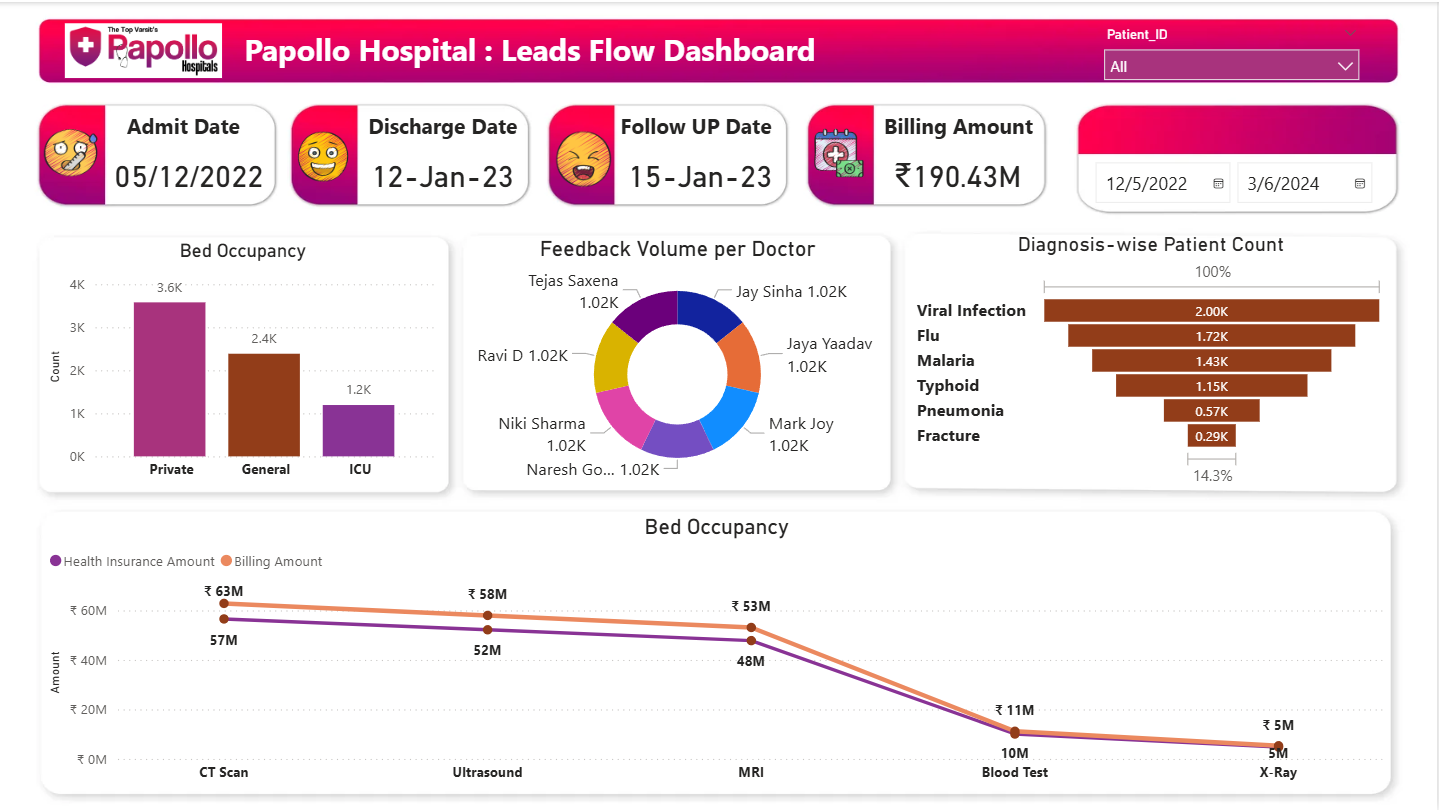

The page's visual inventory and layout, read from the dashboard file:
{"tool":"powerbi","page":{"name":"Dashboard_Page","canvas":[1280,720],"ordinal":0},"visuals":[{"type":"image","box":[3.7,18.4,249.1,49.1],"z":0},{"type":"textbox","box":[212.3,18.4,516.6,47.9],"z":1000},{"type":"slicer","fields":{"Values":["Sheet1.Patient_ID"]},"box":[973,17.2,247.9,52.8],"z":2000},{"type":"card","fields":{"Values":["Min(Sheet1.Admit_Date)"]},"box":[93.3,128.8,149.7,50.3],"z":3000},{"type":"textbox","box":[108,92,120.2,41.7],"z":4000},{"type":"card","fields":{"Values":["Min(Sheet1.Discharge_Date)"]},"box":[319,128.8,149.7,50.3],"z":5000},{"type":"textbox","box":[319,92,149.7,41.7],"z":6000},{"type":"textbox","box":[547.2,92,150.9,41.7],"z":7000},{"type":"card","fields":{"Values":["Min(Sheet1.Followup Date)"]},"box":[548.5,128.8,149.7,50.3],"z":8000},{"type":"image","box":[39.3,104.3,47.9,58.9],"z":9000},{"type":"image","box":[265,112.9,45.4,50.3],"z":10000},{"type":"image","box":[490.8,114.1,57.7,50.3],"z":11000},{"type":"image","box":[723.9,112.9,46.6,44.2],"z":12000},{"type":"card","fields":{"Values":["Sum(Sheet1.Billing Amount)"]},"box":[777.9,128.8,149.7,50.3],"z":13000},{"type":"textbox","box":[777.9,92,150.9,41.7],"z":14000},{"type":"slicer","fields":{"Values":["Sheet1.Admit_Date"]},"box":[963.2,132.5,274.8,52.8],"z":15000},{"type":"columnChart","title":"Bed Occupency","fields":{"Category":["Sheet1.Bed_Occupancy"],"Y":["CountNonNull(Sheet1.Bed_Occupancy)"]},"box":[39.3,211,354.6,223.3],"z":16000},{"type":"donutChart","title":"Feedback Volume Per Doctor","fields":{"Category":["Sheet1.Doctor"],"Y":["CountNonNull(Sheet1.Doctor)"]},"box":[416,208.6,374.2,225.8],"z":17000},{"type":"funnel","title":" Diagnosis-Wise Patient Count","fields":{"Category":["Sheet1.Diagnosis"],"Y":["CountNonNull(Sheet1.Diagnosis)"]},"box":[811,204.9,427,230.7],"z":19000},{"type":"lineChart","title":"Bed Occupancy","fields":{"Category":["Sheet1.Test"],"Y":["Sum(Sheet1.Health Insurance Amount)","Sum(Sheet1.Billing Amount)"]},"box":[39.3,456.4,1198.8,247.9],"z":19001}]}

Visuals, with their boxes in screenshot pixels (x1, y1, x2, y2), scaled from the page's 1280x720 canvas onto the 1439x810 screenshot:
image: rect(4, 21, 284, 76)
textbox: rect(239, 21, 819, 75)
slicer - Sheet1.Patient_ID: rect(1094, 19, 1373, 79)
card - Min(Sheet1.Admit_Date): rect(105, 145, 273, 201)
textbox: rect(121, 104, 257, 150)
card - Min(Sheet1.Discharge_Date): rect(359, 145, 527, 201)
textbox: rect(359, 104, 527, 150)
textbox: rect(615, 104, 785, 150)
card - Min(Sheet1.Followup Date): rect(617, 145, 785, 201)
image: rect(44, 117, 98, 184)
image: rect(298, 127, 349, 184)
image: rect(552, 128, 617, 185)
image: rect(814, 127, 866, 177)
card - Sum(Sheet1.Billing Amount): rect(875, 145, 1043, 201)
textbox: rect(875, 104, 1044, 150)
slicer - Sheet1.Admit_Date: rect(1083, 149, 1392, 208)
"Bed Occupency" columnChart: rect(44, 237, 443, 489)
"Feedback Volume Per Doctor" donutChart: rect(468, 235, 888, 489)
" Diagnosis-Wise Patient Count" funnel: rect(912, 231, 1392, 490)
"Bed Occupancy" lineChart: rect(44, 513, 1392, 792)
